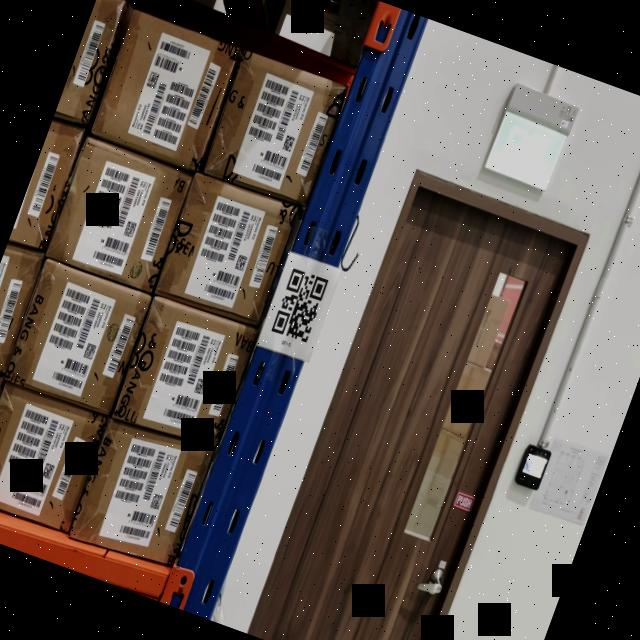box: (46, 140, 193, 294), (6, 262, 150, 418), (94, 15, 238, 168), (157, 174, 299, 328), (70, 416, 212, 570), (114, 298, 257, 447), (205, 52, 346, 202), (0, 385, 107, 530)
